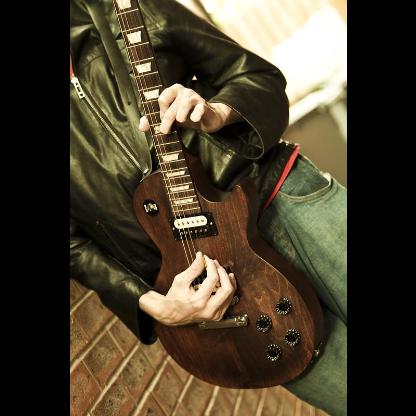guitar: (110, 1, 332, 391)
